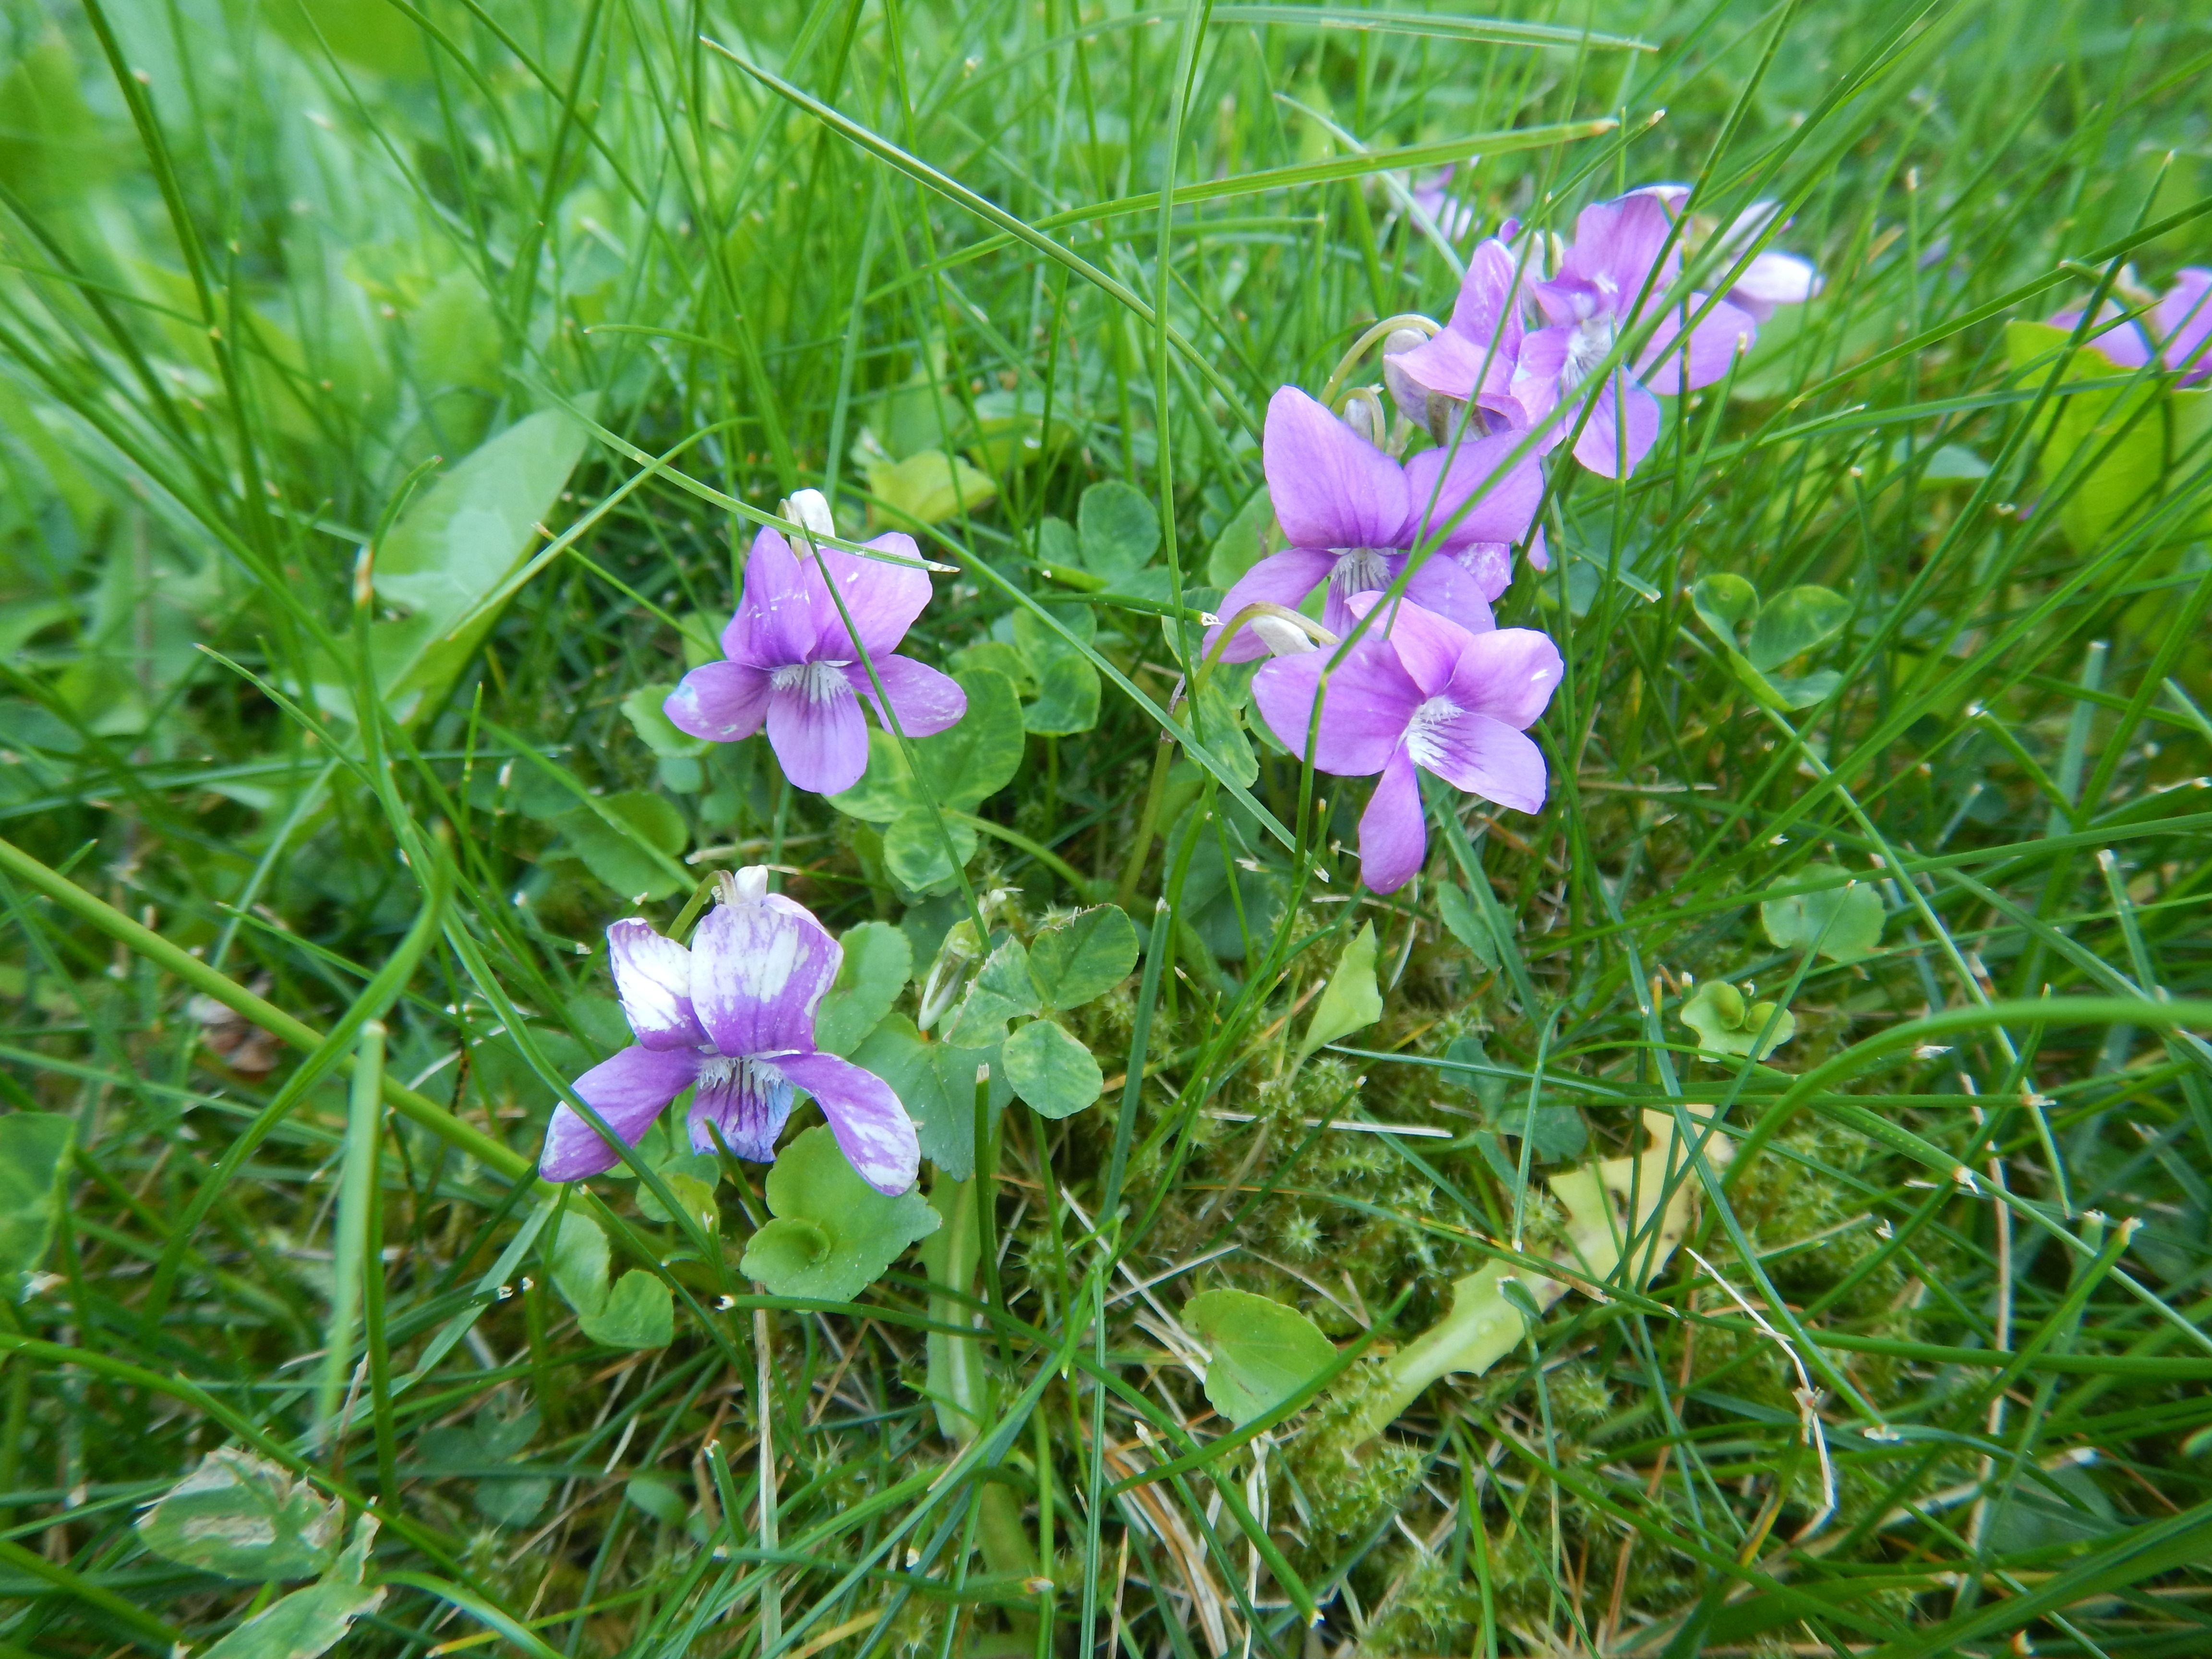violet: (523, 903, 928, 1213), (1177, 345, 1526, 641), (1256, 542, 1547, 868), (1418, 202, 1730, 472), (686, 512, 960, 798)
